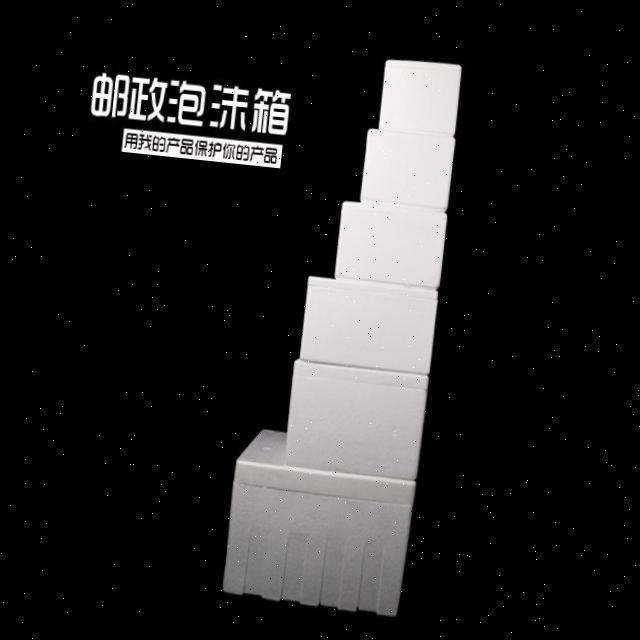styrofoam: (219, 43, 465, 618)
